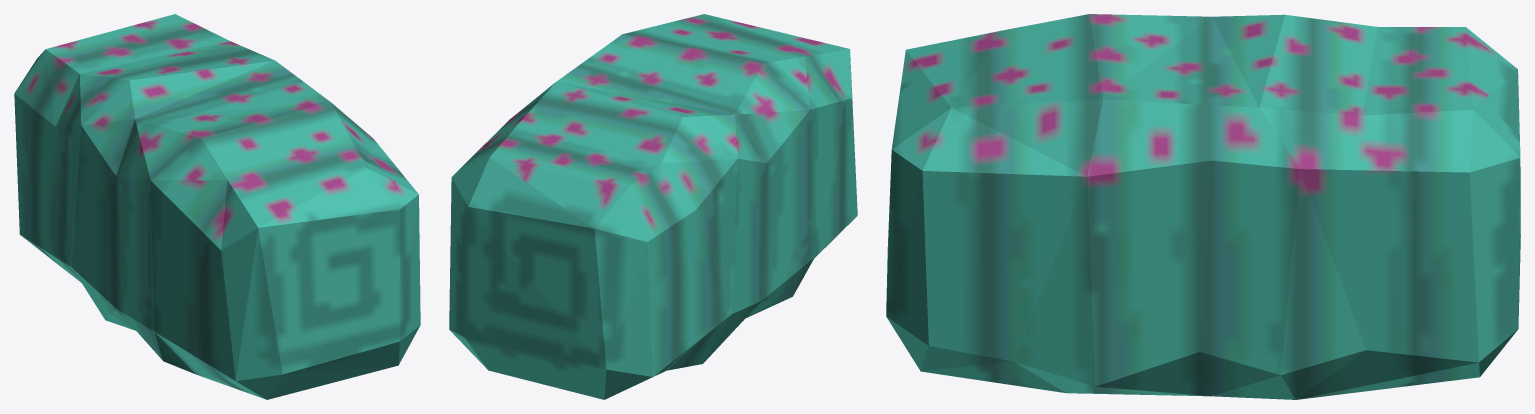
File: flowerbush.fbx
3 renders of one model, left to right at view 1: azimuth 30°, elevation 25°; view 2: azimuth 150°, elevation 25°; view 3: azimuth 270°, elevation 25°, orthographic. The views are drawn at different scales.
Visible parts, largest first — view 1: Mball.003; view 2: Mball.003; view 3: Mball.003.
Part boxes in pixels (left/top/right/bottom): Mball.003: left=14, top=14, right=420, bottom=399; Mball.003: left=449, top=14, right=857, bottom=399; Mball.003: left=886, top=14, right=1520, bottom=399.
Bounding box in the file's own units: 489 × 493 × 926.
